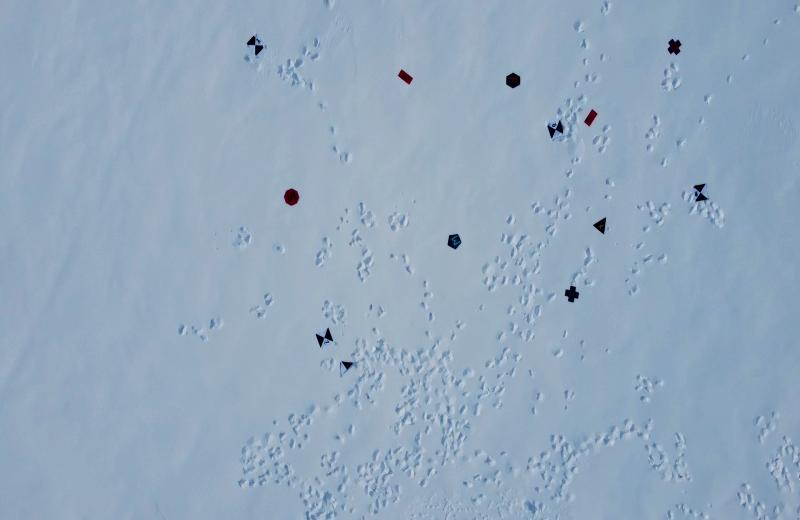Cross: (666, 36, 682, 56), (564, 285, 580, 304)
Hexagon: (505, 72, 522, 88)
Octagon: (284, 188, 300, 206)
Pentagon: (446, 230, 464, 250)
Rectangle: (396, 67, 415, 86), (584, 110, 600, 126)
Triangle: (593, 217, 609, 234)
